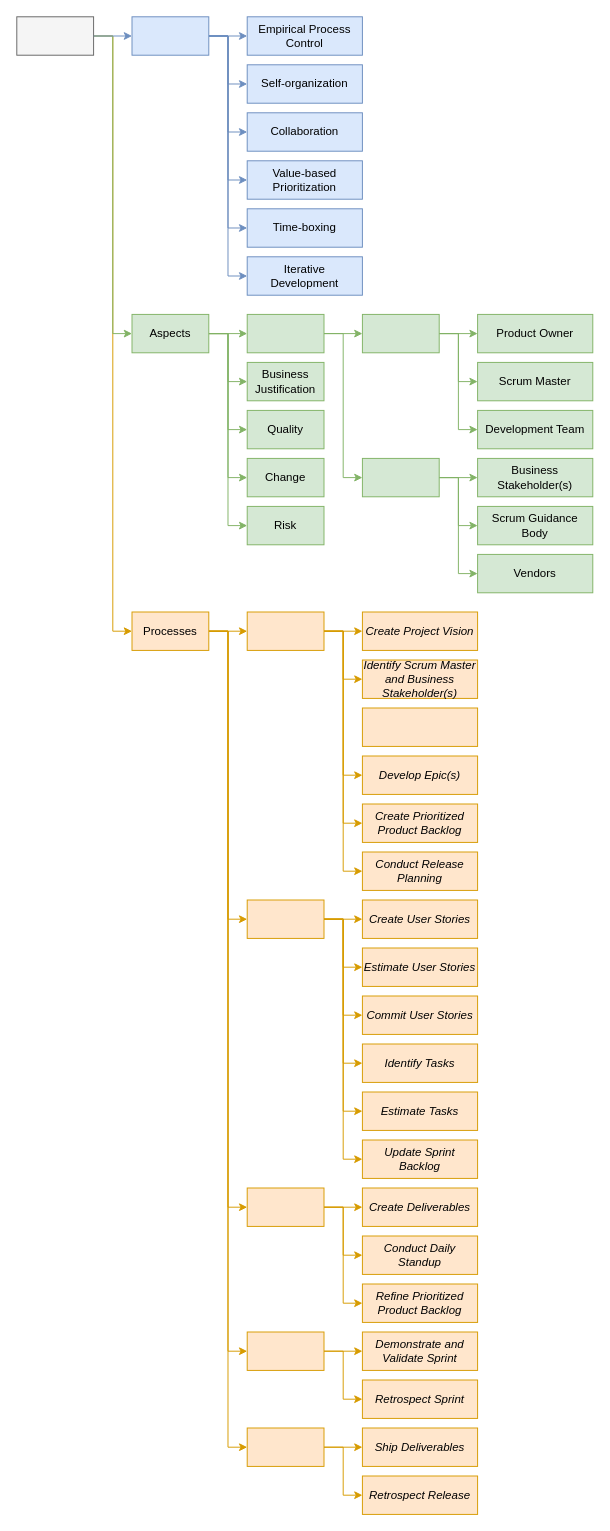
Image size: 610x1531. Some labels were removed from this diagram. The shapes that lost their labels are listed below. From the top down, each one's box as (x1, y1, x2, y2) in pixels, then its label:
(16, 16, 94, 55): Scrum Framework
(131, 16, 209, 55): Principles
(246, 313, 324, 353): Organization
(361, 313, 439, 353): Core Roles
(361, 457, 439, 497): Non-core Roles
(246, 611, 324, 650): Initiate
(361, 707, 478, 746): Form Scrum Team
(246, 899, 324, 938): Plan and Estimate
(246, 1187, 324, 1226): Implement
(246, 1331, 324, 1370): Review and Retrospect
(246, 1427, 324, 1466): Release
